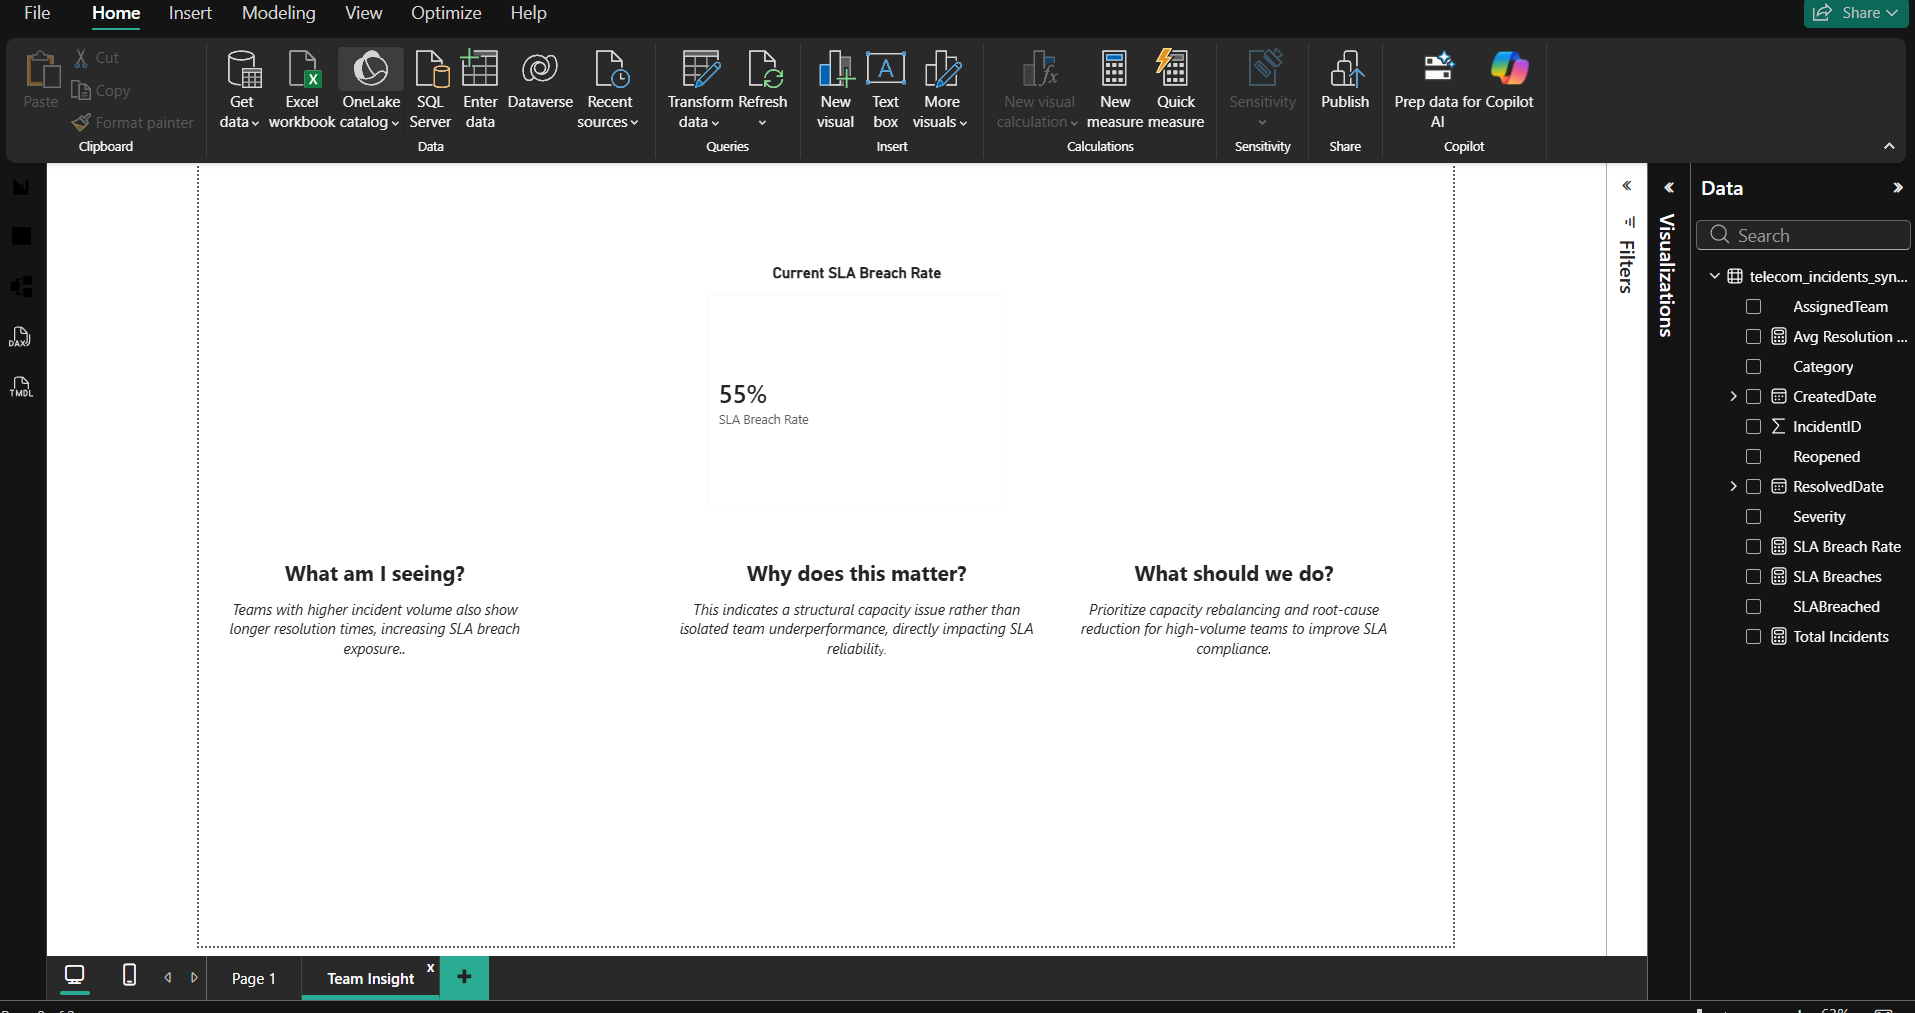

This screenshot's page, from the dashboard's own definition file:
{"tool":"powerbi","page":{"name":"Team Insight","canvas":[1600,1000],"ordinal":1},"visuals":[{"type":"textbox","box":[17.2,499.1,413.4,327.6],"z":0},{"type":"textbox","box":[598.6,499.1,482,300.2],"z":1},{"type":"textbox","box":[1108.8,499.4,424.4,150],"z":3},{"type":"cardVisual","title":"Current SLA Breach Rate","fields":{"Data":["telecom_incidents_synthetic.SLA Breach Rate"]},"box":[633.4,129.2,413.2,327.1],"z":4}]}

Visuals, with their boxes on the page's 1600x1000 design canvas (x1, y1, x2, y2). These are canvas units, not pixel positions in the 1915x1013 screenshot, which may show the page scaled, cropped or inside an application window:
textbox: l=17, t=499, r=431, b=827
textbox: l=599, t=499, r=1081, b=799
textbox: l=1109, t=499, r=1533, b=649
"Current SLA Breach Rate" cardVisual: l=633, t=129, r=1047, b=456
